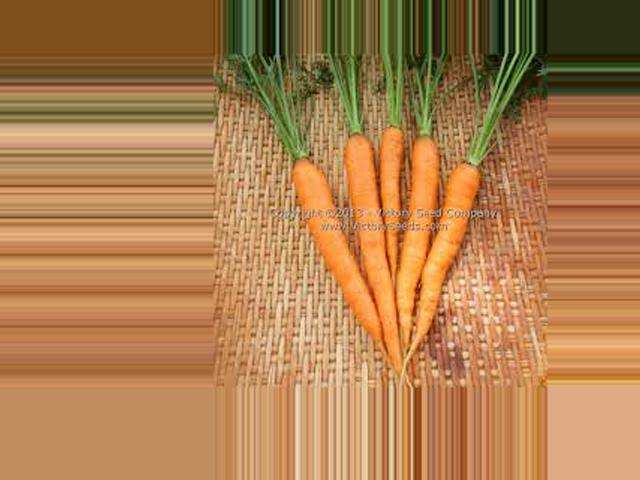carrot: (411, 160, 483, 340)
